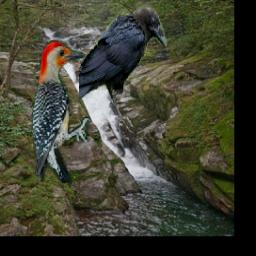Crow: (79, 4, 168, 100)
Woodpecker: (30, 41, 89, 184)
